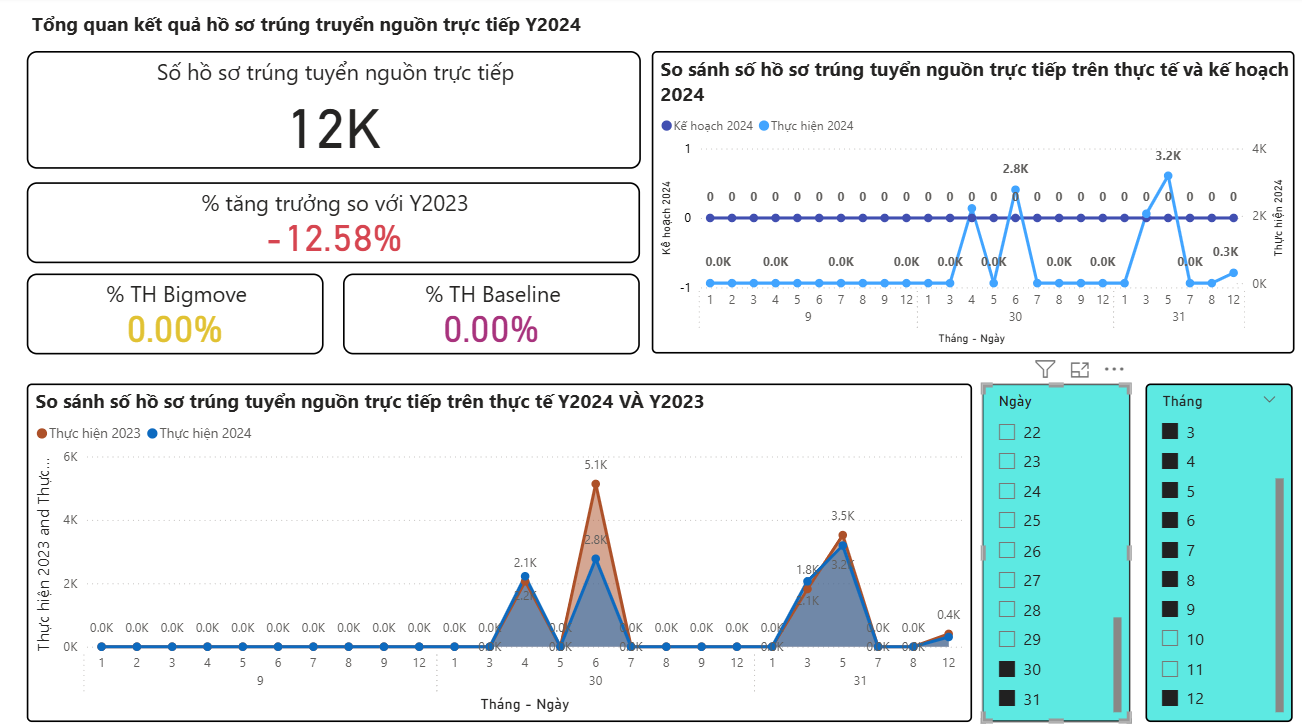

Layout of this report page (visuals, bound fields, positions):
{"tool":"powerbi","page":{"name":"TTAPP_TT(Theo ngày)","canvas":[1280,720],"ordinal":7},"visuals":[{"type":"slicer","fields":{"Values":["DATA_APP.DayNumber"]},"box":[962.6,379.6,145.4,331.2],"z":0},{"type":"slicer","fields":{"Values":["DATA_APP.MonthNumber"]},"box":[1122.8,379.6,144,331.2],"z":1000},{"type":"card","title":"% tăng trưởng so với Y2023","fields":{"Values":["DATA_APP.TTAP%_Y2023_2024(Fixed)"]},"box":[28.2,181.7,600,78.9],"z":2000},{"type":"card","title":"Số hồ sơ trúng tuyển nguồn trực tiếp","fields":{"Values":["DATA_APP.TTAPP_Total(Fixed)"]},"box":[28.2,53.6,600.6,115.3],"z":3000},{"type":"card","title":"% TH Bigmove","fields":{"Values":["DATA_APP.TTAPP%BigMove(Fixed)"]},"box":[28.2,271.8,290.1,78.9],"z":4000},{"type":"card","title":"% TH Baseline","fields":{"Values":["DATA_APP.TTAPP%BaseLine(Fixed)"]},"box":[338,271.8,290.1,78.9],"z":5000},{"type":"lineChart","title":"So sánh số hồ sơ trúng tuyển nguồn trực tiếp trên thực tế và kế hoạch 2024","fields":{"Category":["DATA_APP.DayNumber","DATA_APP.MonthNumber"],"Y":["Sum(DATA_APP.TTAP_DD_BL2024)"],"Y2":["Sum(DATA_APP.TTAP_DD_TH2024)"]},"box":[639.5,53.6,628.7,296.3],"z":6000},{"type":"areaChart","title":"So sánh số hồ sơ trúng tuyển nguồn trực tiếp trên thực tế Y2024 VÀ Y2023","fields":{"Category":["DATA_APP.DayNumber","DATA_APP.MonthNumber"],"Y":["Sum(DATA_APP.TTAP_DD_TH2023)","Sum(DATA_APP.TTAP_DD_TH2024)"]},"box":[28.3,379.6,924.9,331.2],"z":7000},{"type":"textbox","box":[28.3,9.4,564.1,44.4],"z":8000}]}

Visuals, with their boxes in screenshot pixels (x1, y1, x2, y2), scaled from the page's 1280x720 canvas onto the 1302x727 screenshot:
slicer - DATA_APP.DayNumber: <box>979,383,1127,718</box>
slicer - DATA_APP.MonthNumber: <box>1142,383,1289,718</box>
"% tăng trưởng so với Y2023" card: <box>29,183,639,263</box>
"Số hồ sơ trúng tuyển nguồn trực tiếp" card: <box>29,54,640,171</box>
"% TH Bigmove" card: <box>29,274,324,354</box>
"% TH Baseline" card: <box>344,274,639,354</box>
"So sánh số hồ sơ trúng tuyển nguồn trực tiếp trên thực tế và kế hoạch 2024" lineChart: <box>650,54,1290,353</box>
"So sánh số hồ sơ trúng tuyển nguồn trực tiếp trên thực tế Y2024 VÀ Y2023" areaChart: <box>29,383,970,718</box>
textbox: <box>29,9,603,54</box>
